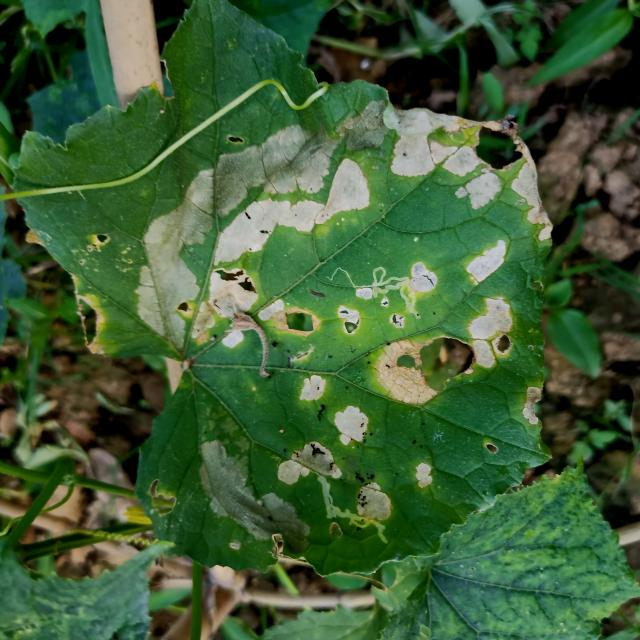disease_cucumber: (253, 296, 546, 546), (135, 100, 374, 350), (382, 96, 554, 322)
